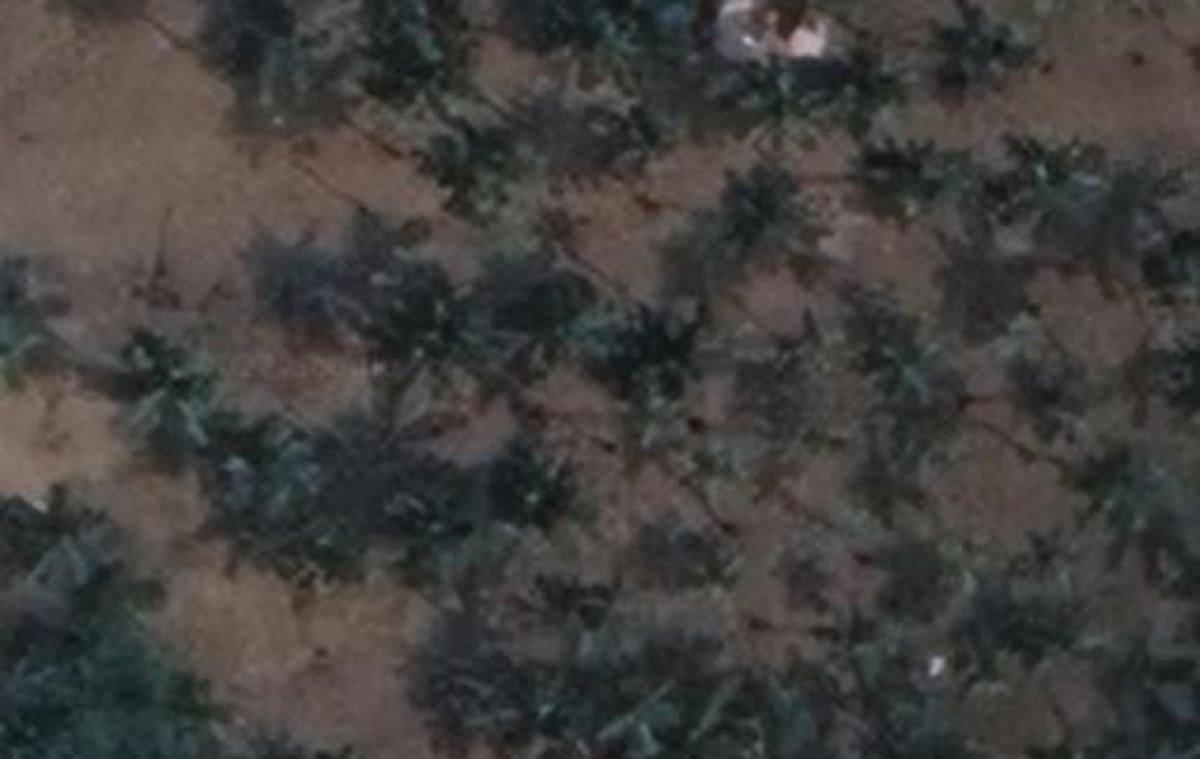coconut: (113, 330, 226, 447), (987, 136, 1108, 245), (426, 124, 546, 226), (4, 492, 115, 601), (391, 469, 497, 582), (226, 2, 330, 115), (851, 308, 961, 412), (488, 429, 598, 532), (216, 421, 322, 525), (634, 412, 737, 518), (386, 280, 490, 384), (709, 160, 811, 266), (266, 240, 367, 346), (598, 289, 697, 393), (1006, 575, 1103, 681), (1072, 445, 1176, 542), (499, 275, 601, 372), (853, 424, 947, 528), (813, 35, 914, 129), (370, 2, 473, 94), (716, 37, 813, 132), (744, 315, 841, 410), (865, 132, 957, 230), (933, 9, 1025, 101), (549, 0, 645, 82), (521, 575, 615, 657), (598, 84, 683, 172), (598, 676, 686, 759), (429, 645, 513, 726), (1004, 344, 1089, 421), (509, 681, 589, 759), (153, 678, 231, 754), (662, 525, 737, 598)
